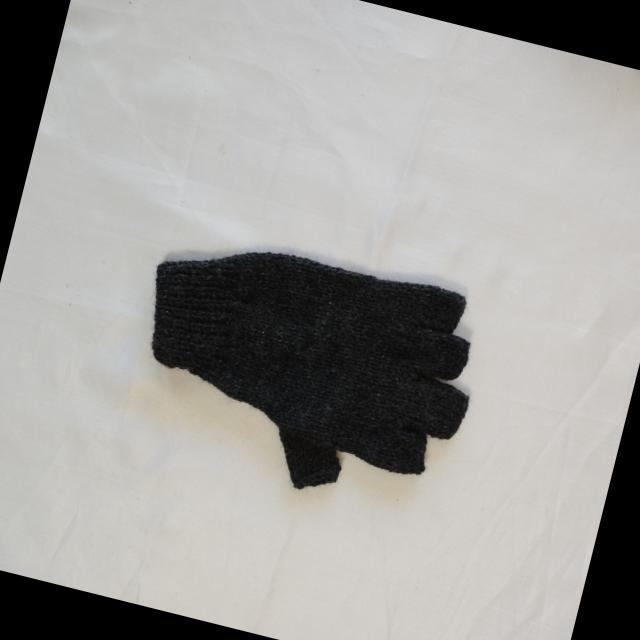Guante: (112, 216, 496, 524)
